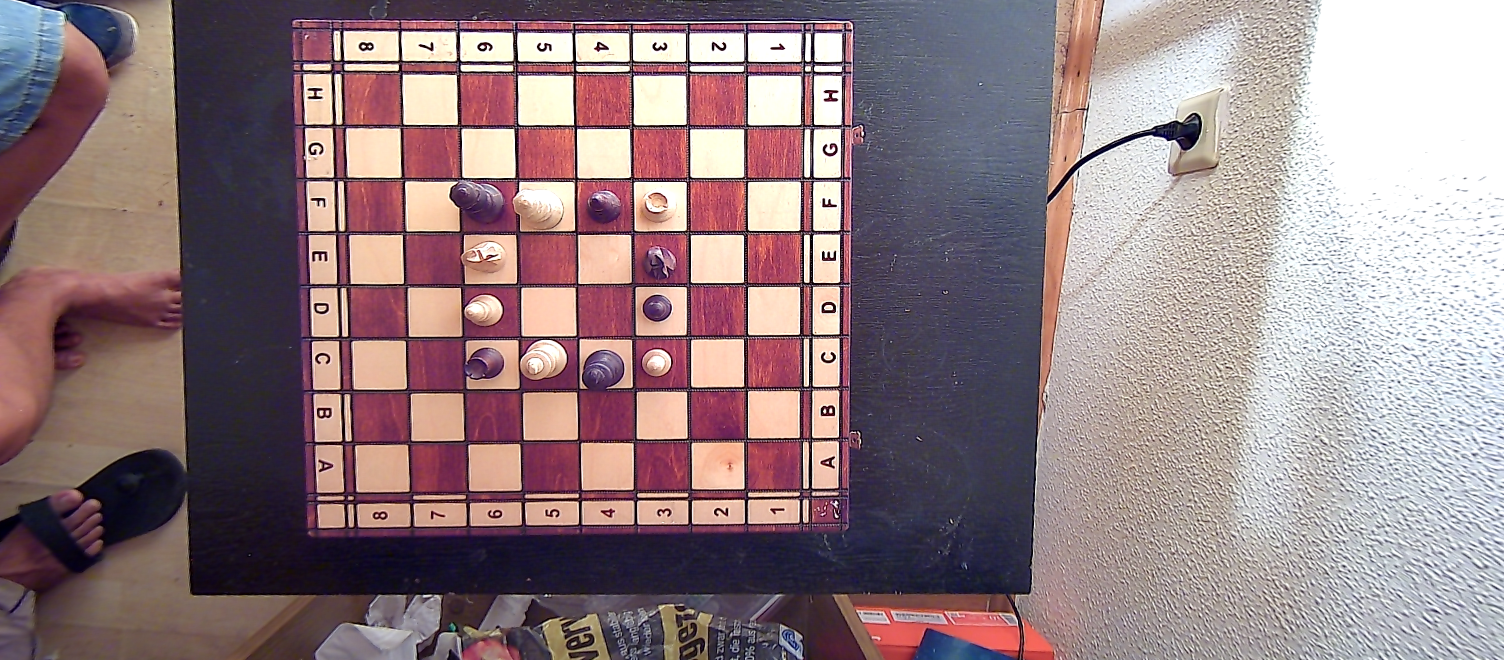black-bishop: (585, 185, 625, 226)
black-king: (581, 347, 626, 393)
black-knight: (641, 242, 681, 283)
black-pawn: (640, 291, 676, 326)
black-queen: (448, 175, 508, 224)
black-rook: (465, 345, 505, 384)
white-bishop: (462, 292, 504, 328)
white-king: (522, 339, 565, 384)
white-knight: (458, 237, 508, 276)
white-pawn: (639, 345, 673, 377)
white-queen: (514, 187, 564, 230)
white-rook: (639, 184, 676, 224)
